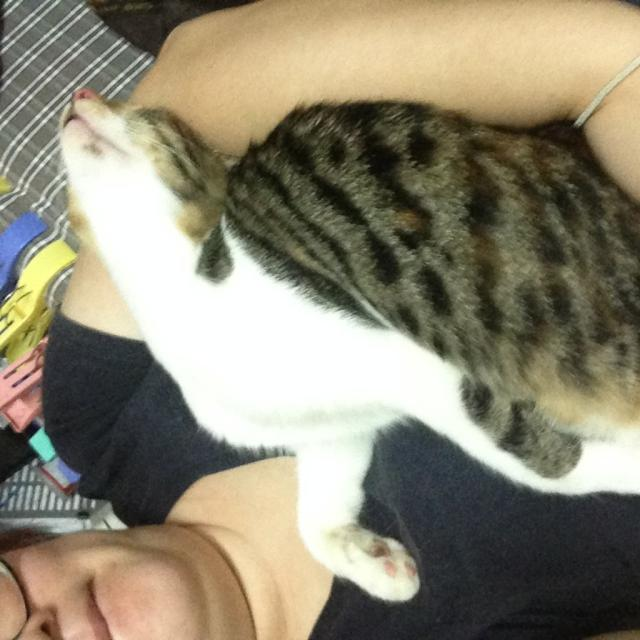Cat: (58, 88, 639, 608)
